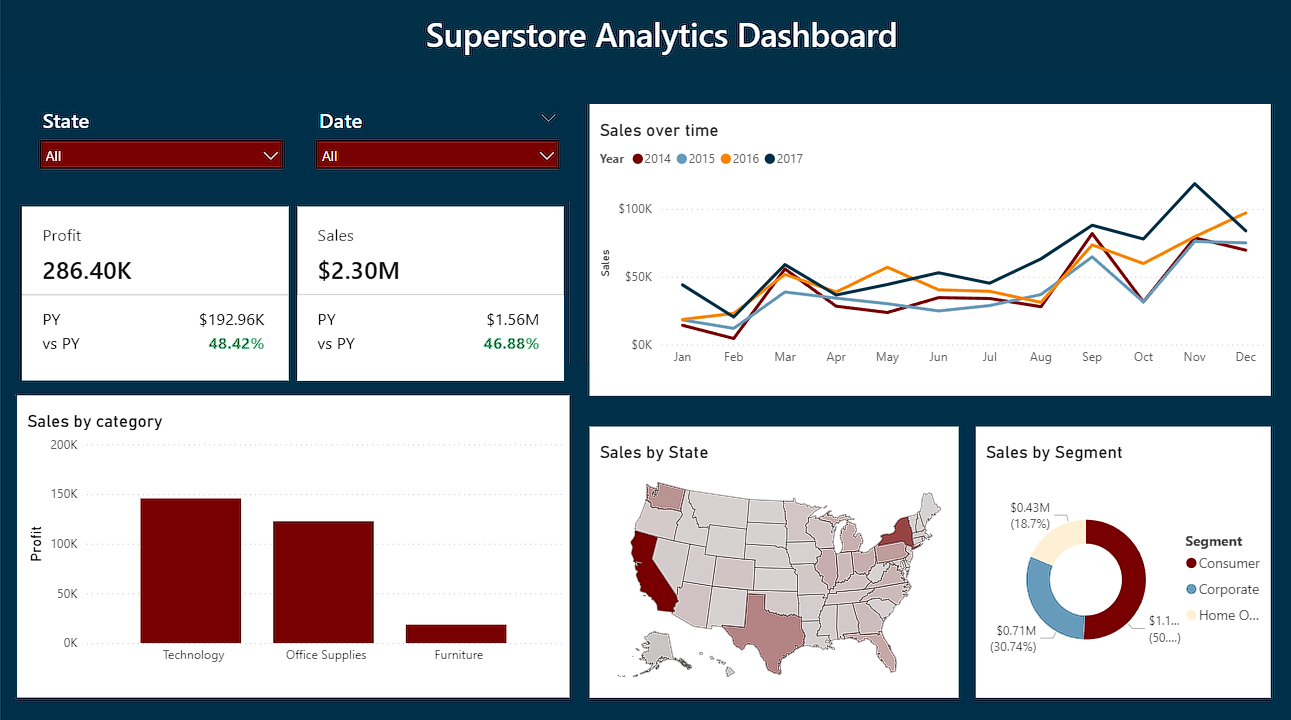

The page's visual inventory and layout, read from the dashboard file:
{"tool":"powerbi","page":{"name":"Page 1","canvas":[1280,720],"ordinal":0},"visuals":[{"type":"cardVisual","fields":{"Data":["Key Measures.Profit","Key Measures.Sales"]},"box":[19.6,203.8,542.5,181.7],"z":0},{"type":"shape","box":[0,0,1280,77.5],"z":1000},{"type":"lineChart","title":"Sales over time","fields":{"Y":["Key Measures.Sales"],"Series":["Dates.Year"],"Category":["Dates.Month"]},"box":[581.8,108,669,286],"z":2000},{"type":"columnChart","title":"Sales by category","fields":{"Category":["Sample - Superstore.Category"],"Y":["Key Measures.Profit"]},"box":[19.6,394,542.5,297],"z":3000},{"type":"shapeMap","fields":{"Category":["Sample - Superstore.State"],"Value":["Key Measures.Sales"]},"box":[581.8,424.7,362.1,266.4],"z":4000},{"type":"donutChart","fields":{"Y":["Key Measures.Sales"],"Category":["Sample - Superstore.Segment"]},"box":[961.1,424.7,289.7,266.4],"z":5000},{"type":"slicer","fields":{"Values":["Sample - Superstore.State"]},"box":[31.9,105.6,259,72.4],"z":6000},{"type":"slicer","fields":{"Values":["Dates.Year-Month"]},"box":[303.2,105.6,259,72.4],"z":7000}]}

Visuals, with their boxes in screenshot pixels (x1, y1, x2, y2), scaled from the page's 1280x720 canvas onto the 1291x720 screenshot:
cardVisual - Key Measures.Profit x Key Measures.Sales: select_region(20, 204, 567, 386)
shape: select_region(0, 0, 1290, 78)
"Sales over time" lineChart: select_region(587, 108, 1262, 394)
"Sales by category" columnChart: select_region(20, 394, 567, 691)
shapeMap - Sample - Superstore.State x Key Measures.Sales: select_region(587, 425, 952, 691)
donutChart - Key Measures.Sales x Sample - Superstore.Segment: select_region(969, 425, 1262, 691)
slicer - Sample - Superstore.State: select_region(32, 106, 293, 178)
slicer - Dates.Year-Month: select_region(306, 106, 567, 178)
